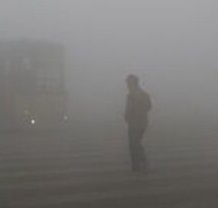person: (122, 73, 154, 174)
